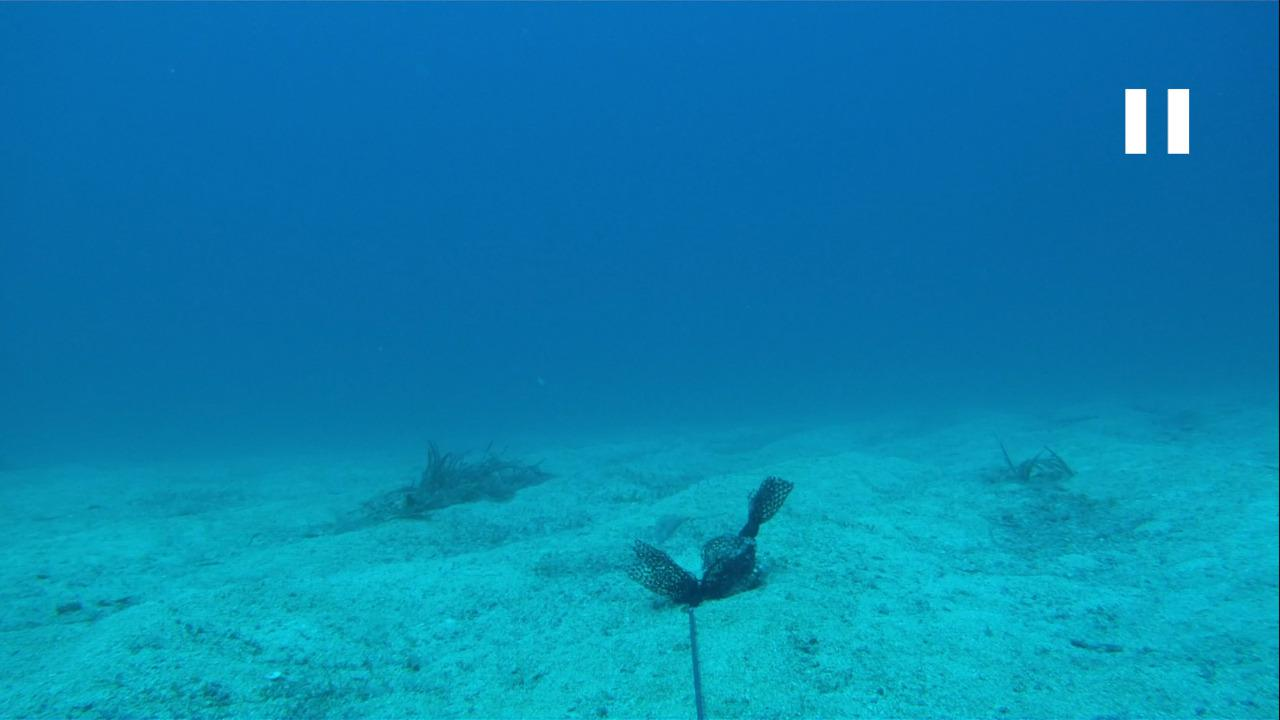dactylopterus: (299, 485, 433, 541)
raor: (645, 509, 689, 543)
